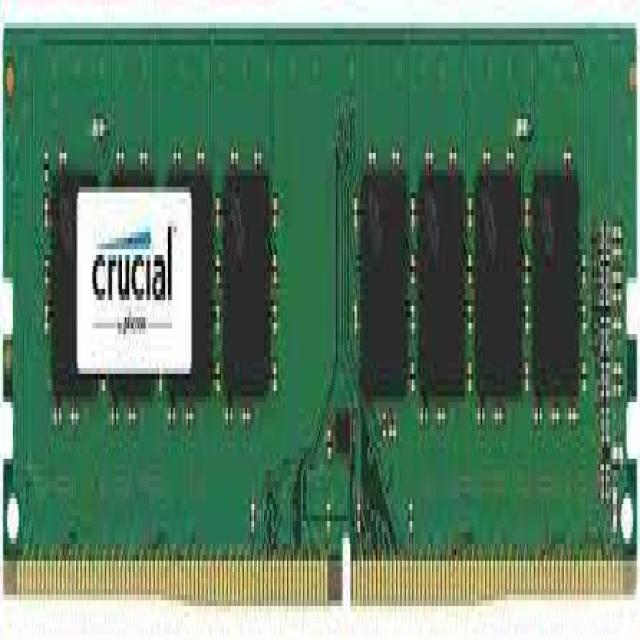Ram: (18, 5, 509, 640)
